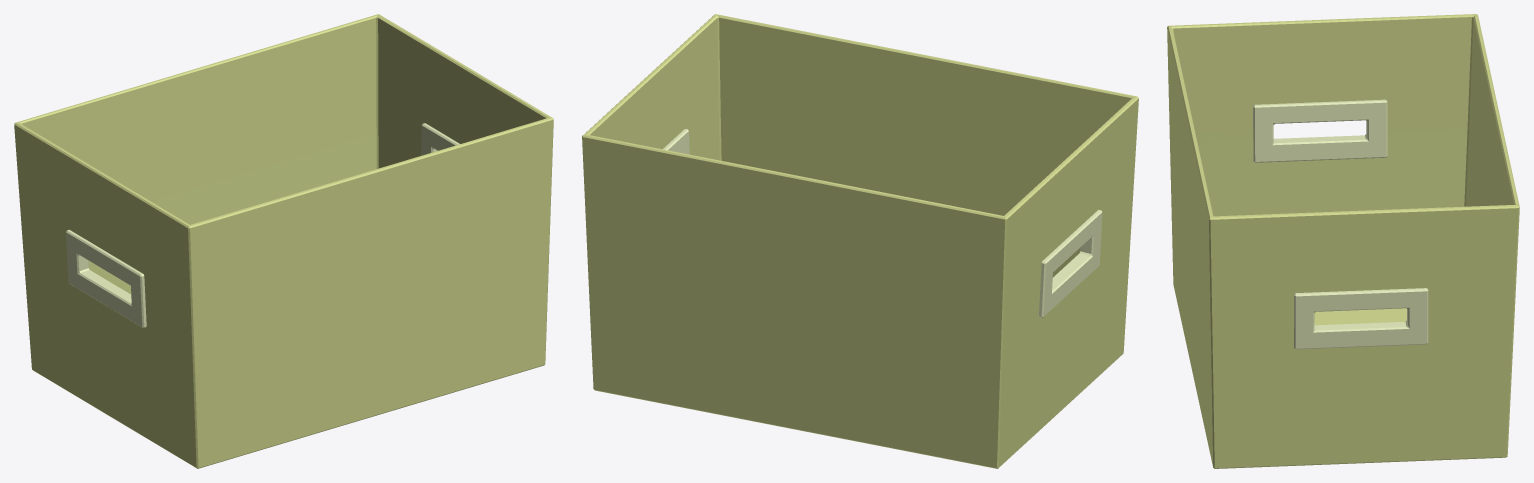
3 views of the same model, side by side, from view 1: azimuth 30°, elevation 25°; view 2: azimuth 150°, elevation 25°; view 3: azimuth 270°, elevation 25° (orthographic). The views are drawn at different scales.
Visible parts, largest first — view 1: file_box_2; view 2: file_box_2; view 3: file_box_2.
Boxes of the visible parts, x1,y1,x2,y2 form: file_box_2: (14, 14, 553, 468); file_box_2: (582, 14, 1138, 468); file_box_2: (1167, 14, 1519, 468).
Bounding box in the file's own units: 0.473 × 0.273 × 0.3431.
